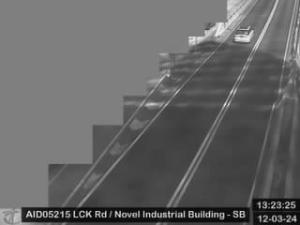vehicle: (236, 27, 255, 42)
